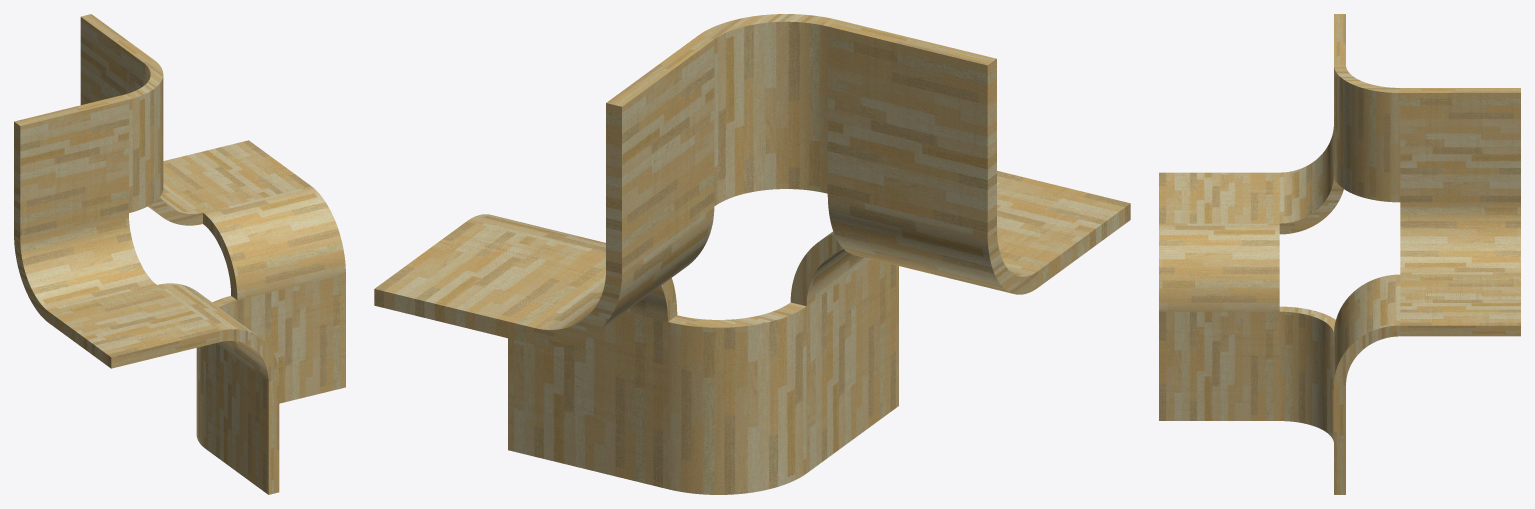
File: Loop.dae
3 views of the same model, side by side, from view 1: azimuth 30°, elevation 25°; view 2: azimuth 150°, elevation 25°; view 3: azimuth 270°, elevation 25° (orthographic). The views are drawn at different scales.
Parts seen in each view (by area): view 1: instance_4 (×2), instance_9 (×2), instance_10, instance_6 (×2), instance_5 (×2), instance_7 (×2), instance_0, instance_1 (×2), instance_3 (×2), instance_8 (×3), instance_2 (×2), instance_11; view 2: instance_4 (×2), instance_11 (×2), instance_10, instance_1 (×2), instance_3 (×2), instance_0, instance_7, instance_6 (×2), instance_5, instance_2 (×3), instance_8 (×2), instance_9 (×2); view 3: instance_3 (×2), instance_7, instance_8, instance_2, instance_1 (×2), instance_0 (×2), instance_11 (×2), instance_5, instance_9 (×2), instance_6 (×2), instance_10, instance_4.
Boxes of the visible parts, bbox=[...] form: instance_4 (×2): bbox=[14, 95, 128, 239]; instance_9 (×2): bbox=[203, 186, 345, 300]; instance_10: bbox=[237, 274, 345, 403]; instance_6 (×2): bbox=[14, 213, 156, 322]; instance_5 (×2): bbox=[48, 285, 219, 368]; instance_7 (×2): bbox=[206, 343, 279, 494]; instance_0: bbox=[163, 140, 310, 212]; instance_1 (×2): bbox=[123, 60, 163, 212]; instance_3 (×2): bbox=[80, 14, 153, 104]; instance_8 (×3): bbox=[157, 283, 279, 381]; instance_2 (×2): bbox=[151, 184, 202, 225]; instance_11: bbox=[196, 345, 205, 448]; instance_4 (×2): bbox=[827, 20, 996, 232]; instance_11 (×2): bbox=[668, 302, 806, 494]; instance_10: bbox=[508, 311, 667, 488]; instance_1 (×2): bbox=[698, 14, 836, 206]; instance_3 (×2): bbox=[606, 35, 714, 273]; instance_0: bbox=[374, 221, 605, 344]; instance_7: bbox=[806, 259, 898, 472]; instance_6 (×2): bbox=[827, 194, 1038, 294]; instance_5: bbox=[997, 170, 1130, 287]; instance_2 (×3): bbox=[534, 207, 714, 346]; instance_8 (×2): bbox=[790, 234, 870, 306]; instance_9 (×2): bbox=[467, 214, 667, 321]; instance_3 (×2): bbox=[1400, 88, 1520, 202]; instance_7: bbox=[1159, 311, 1279, 420]; instance_8: bbox=[1159, 223, 1279, 311]; instance_2: bbox=[1400, 202, 1520, 274]; instance_1 (×2): bbox=[1334, 65, 1400, 202]; instance_0 (×2): bbox=[1400, 274, 1520, 336]; instance_11 (×2): bbox=[1279, 306, 1335, 441]; instance_5: bbox=[1159, 172, 1279, 223]; instance_9 (×2): bbox=[1334, 274, 1400, 385]; instance_6 (×2): bbox=[1279, 127, 1343, 234]; instance_10: bbox=[1334, 385, 1345, 494]; instance_4: bbox=[1334, 14, 1345, 64].
Size of the model in its own units: 118 by 118 by 118.
2 materials, 2 textured.
